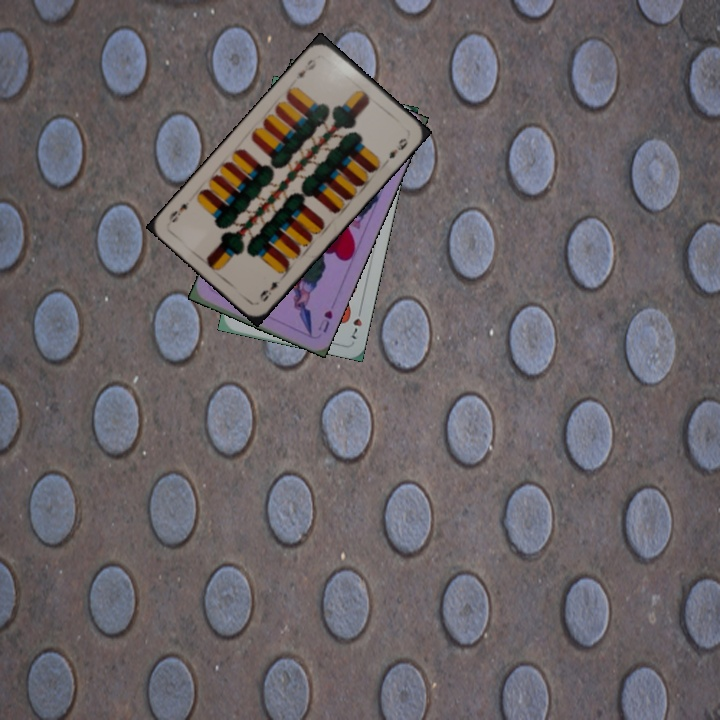E9: (255, 277, 283, 305), (292, 55, 319, 82)
H7: (347, 303, 365, 342)
HU: (314, 306, 335, 335)
